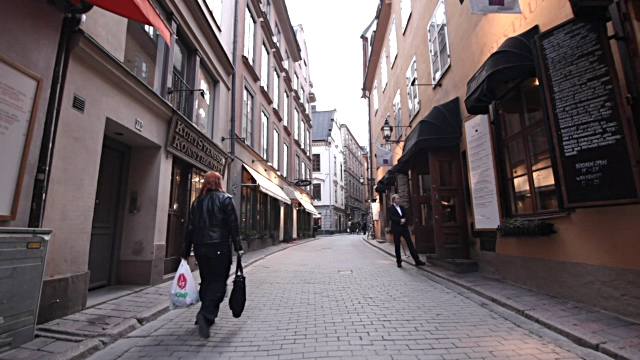person: (177, 168, 251, 339), (388, 192, 429, 273)
